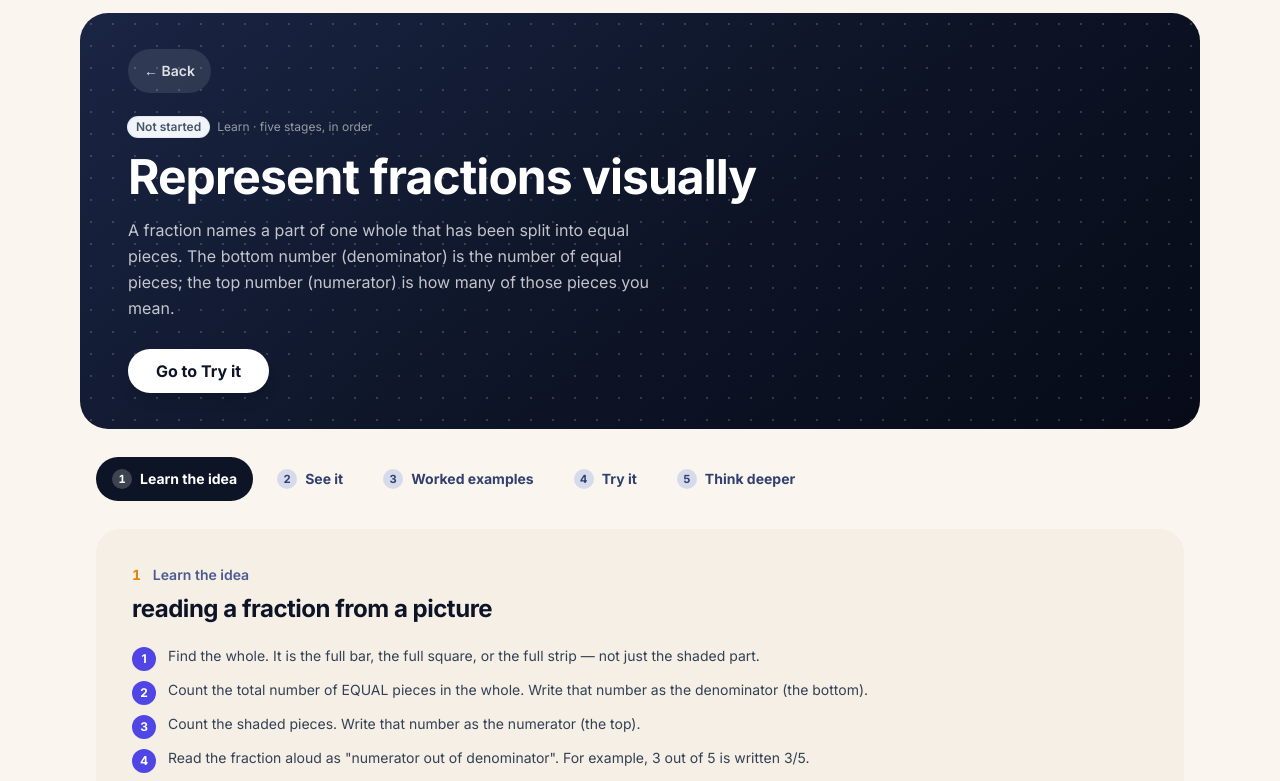
it: §13/§14 the Try-it stage is a sequence, not a worksheet › clears the previous selection when the next question arrives
Click the button "4 Try it": (605, 479) [558,457,653,501]
(page scrolled)
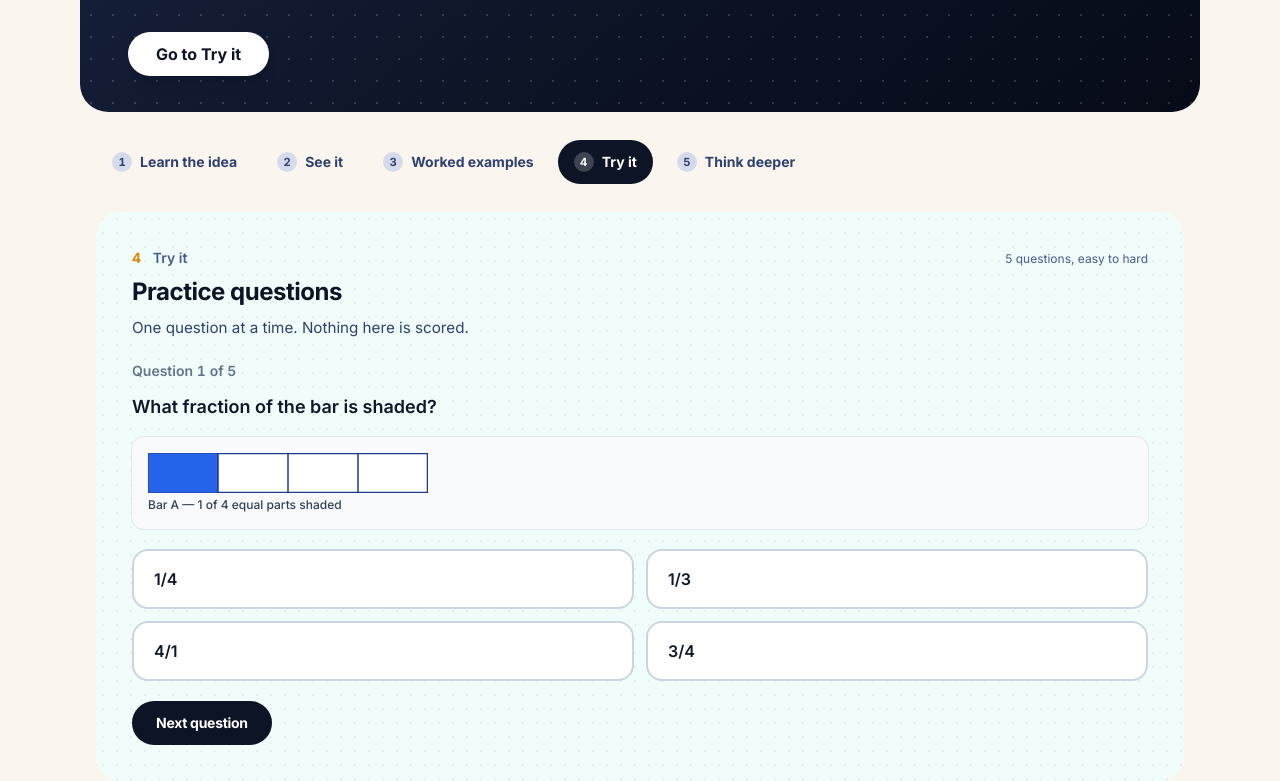
Expected: the button "1/4" is shown
Click the button "1/4": (166, 579) [132,549,634,609]
(page scrolled)
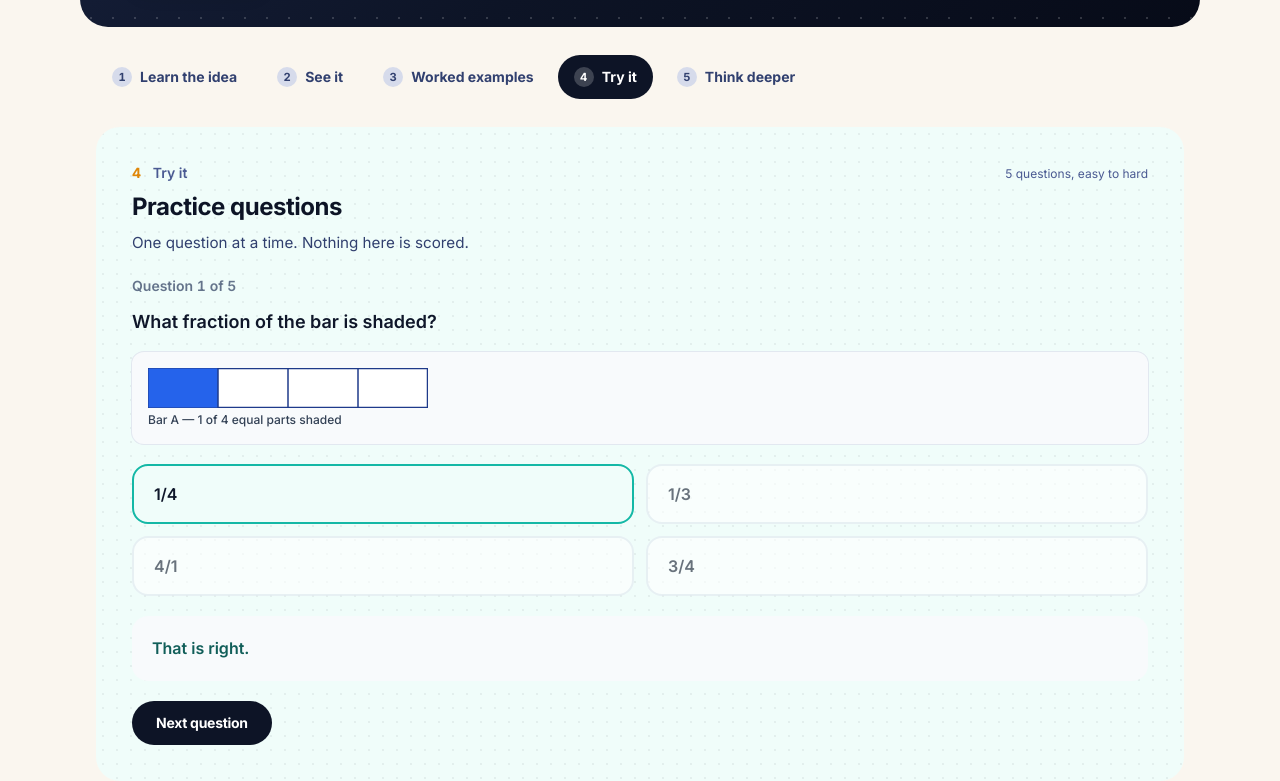
Click the button "Next question": (202, 722) [132,700,272,744]
(page scrolled)
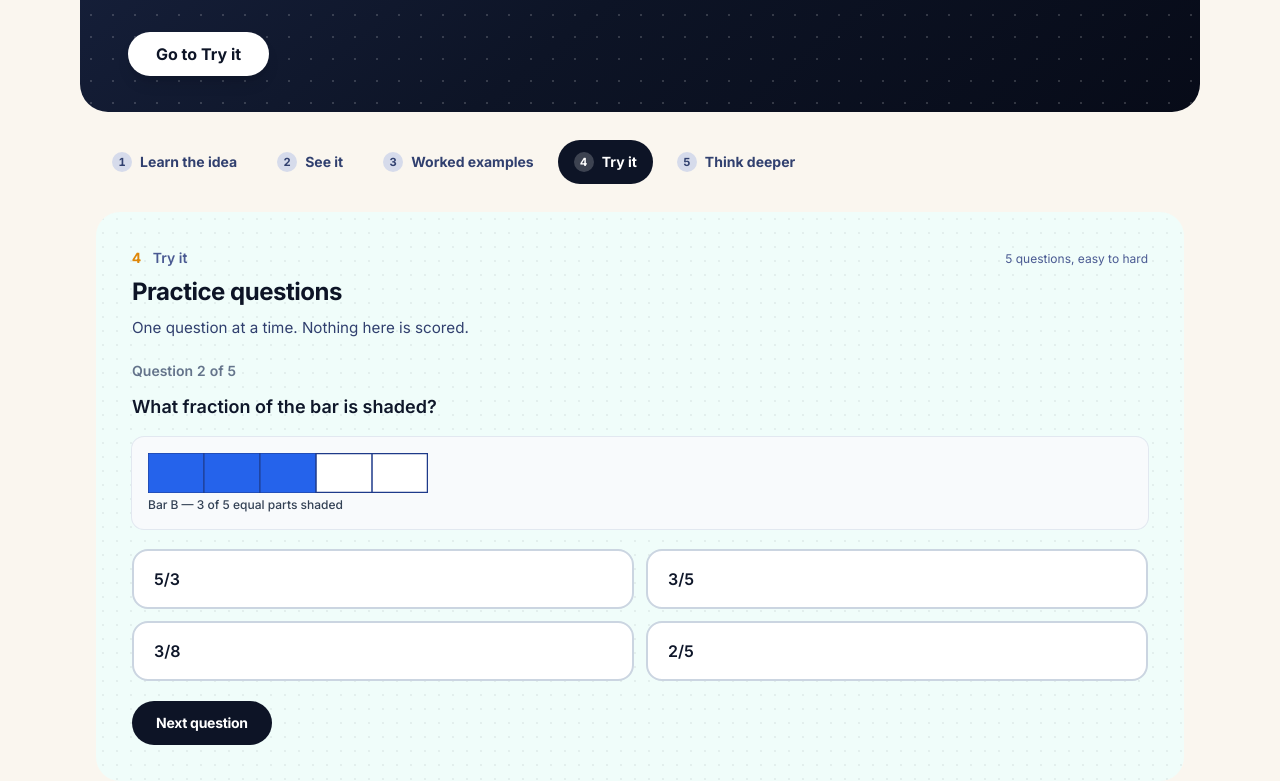
Expected: the text "That is right" is gone
